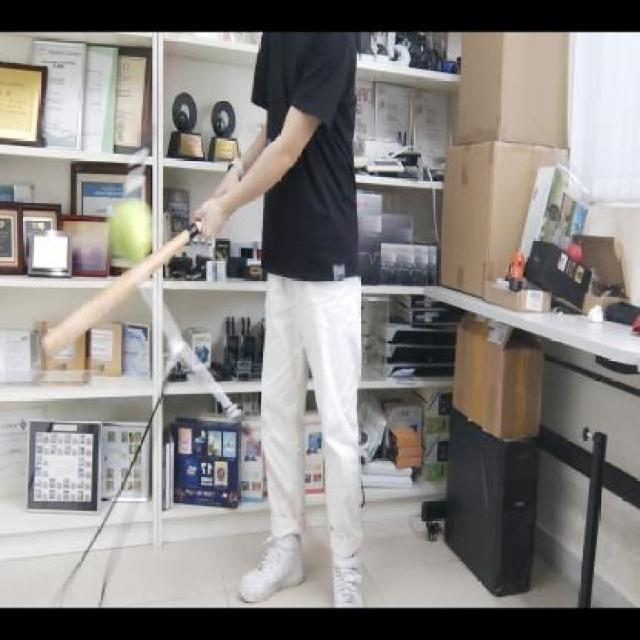baseball: (108, 196, 155, 266)
